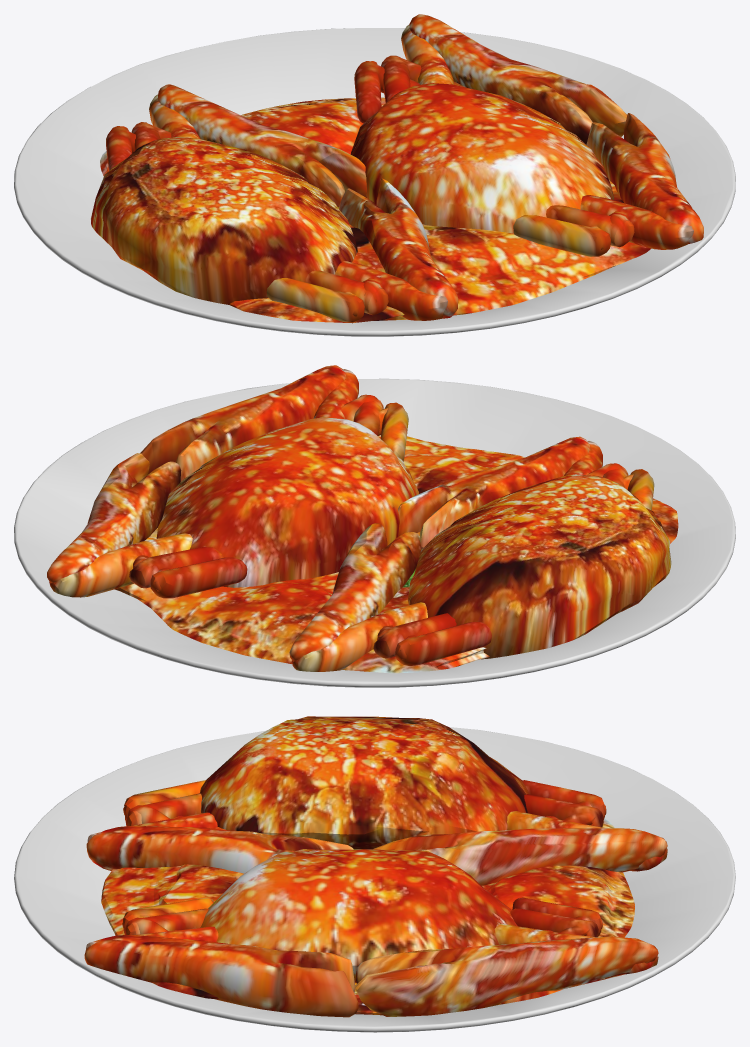
The model's file is seafood_crab.glb.
3 renders of one model, top to bottom at view 1: azimuth 30°, elevation 25°; view 2: azimuth 150°, elevation 25°; view 3: azimuth 270°, elevation 25°, orthographic.
Visible parts, largest first — view 1: Object_80, Object_76; view 2: Object_80, Object_76; view 3: Object_80, Object_76.
Boxes of the visible parts, <box> form: Object_80: <box>91,14,703,323</box>; Object_76: <box>14,28,735,336</box>; Object_80: <box>47,365,678,673</box>; Object_76: <box>14,378,735,687</box>; Object_80: <box>84,716,667,1017</box>; Object_76: <box>14,727,735,1032</box>.
Size of the model in its own units: 2.46 by 0.4606 by 2.46.
Materials: 2 (1 with a texture image).
